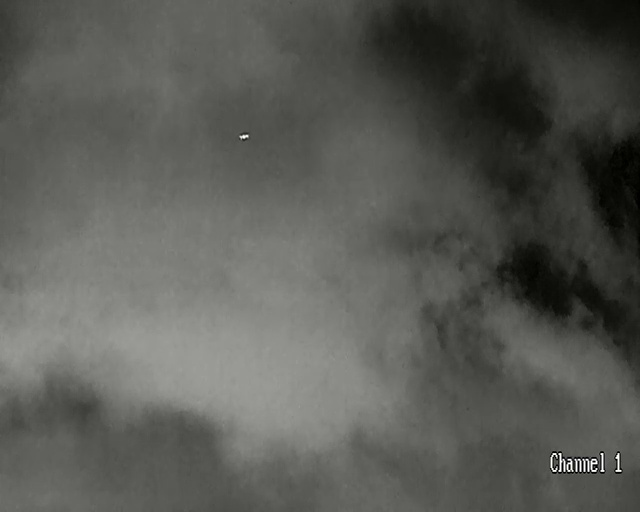uav: (239, 132, 250, 141)
